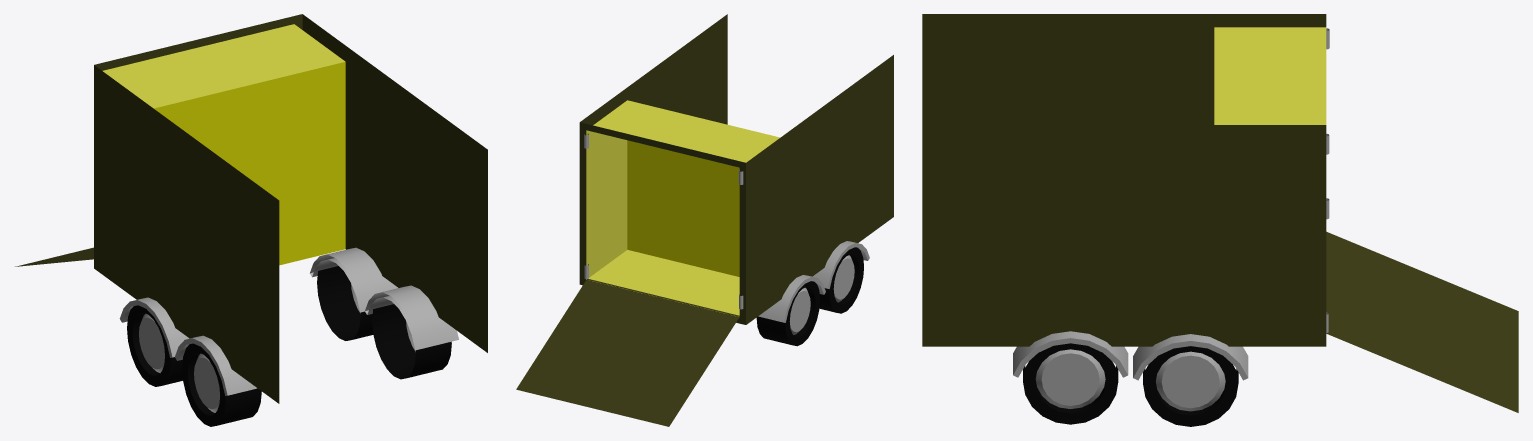
3 views of the same model, side by side, from view 1: azimuth 30°, elevation 25°; view 2: azimuth 150°, elevation 25°; view 3: azimuth 270°, elevation 25° (orthographic). The views are drawn at different scales.
Parts seen in each view (by area): view 1: half_trailor_ID; view 2: half_trailor_ID; view 3: half_trailor_ID.
Part boxes in pixels (box(x1,y1,x2,y2)): half_trailor_ID: box(15, 14, 487, 426); half_trailor_ID: box(516, 14, 893, 426); half_trailor_ID: box(922, 14, 1518, 426).
Bounding box in the file's own units: 3.38 × 3.79 × 6.91.
